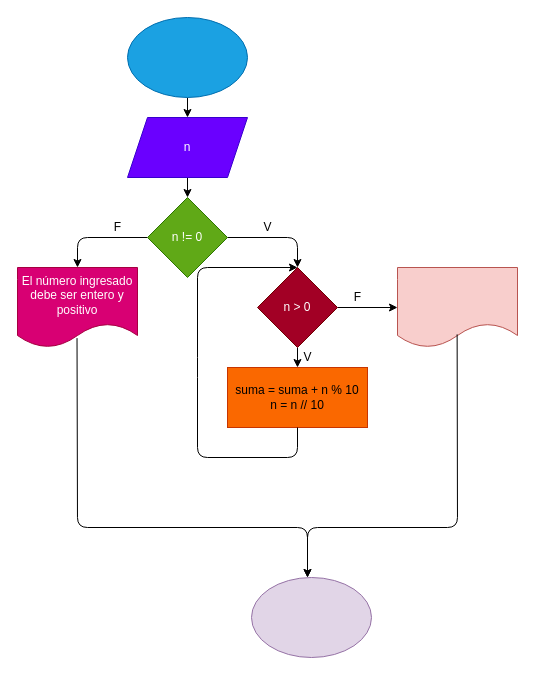
This 535x675 diagram has some shape labels left out. Each missing label, with the centre of its shape:
FIN: (311,617)
INICIO: (187,57)
suma: (457,307)
